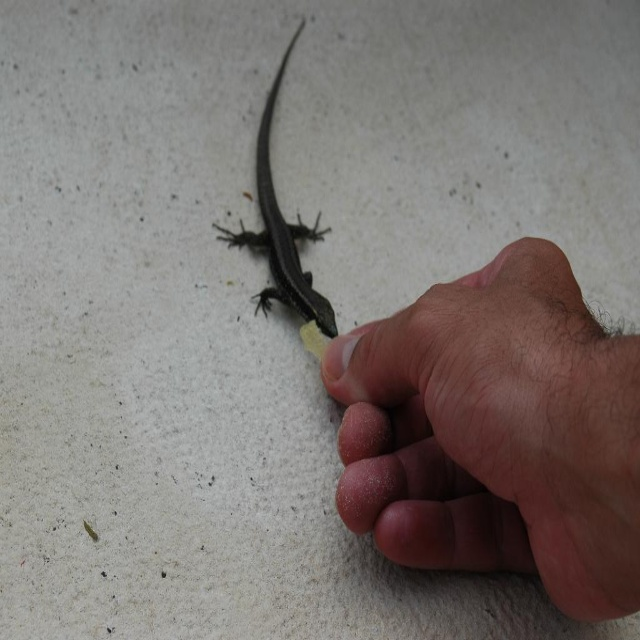Lizard: (225, 61, 353, 376)
